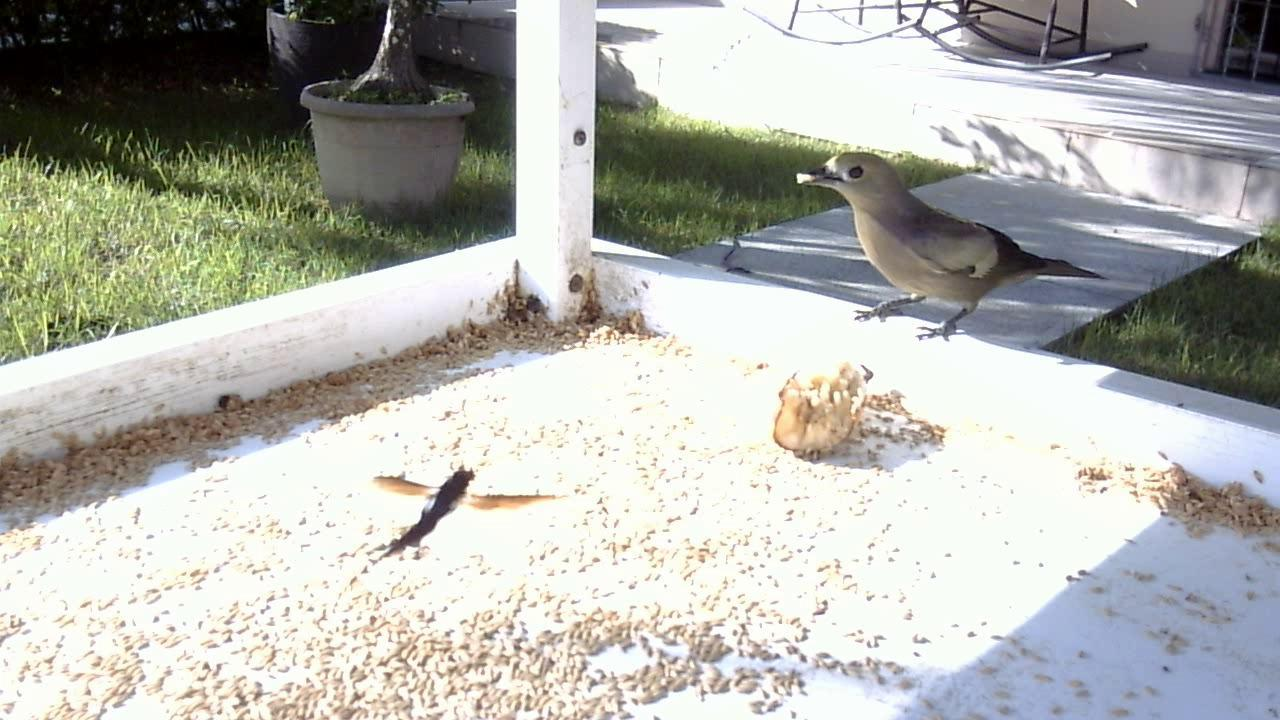sanhaco_do_coqueiro: (794, 135, 1117, 362)
